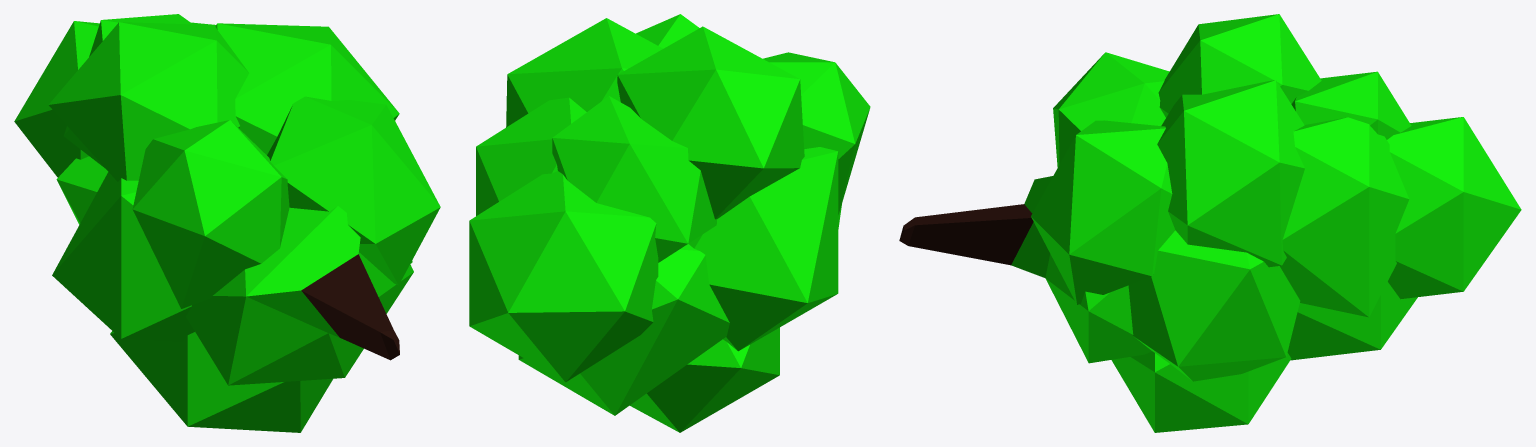
The model's file is BigGreenGrape.fbx.
3 renders of one model, left to right at view 1: azimuth 30°, elevation 25°; view 2: azimuth 150°, elevation 25°; view 3: azimuth 270°, elevation 25°, orthographic. The views are drawn at different scales.
Parts seen in each view (by area): view 1: BigGreenGrape; view 2: BigGreenGrape; view 3: BigGreenGrape.
Boxes of the visible parts, x1,y1,x2,y2 form: BigGreenGrape: (14, 14, 440, 432); BigGreenGrape: (469, 14, 870, 432); BigGreenGrape: (899, 14, 1521, 432).
Size of the model in its own units: 3.3 by 3.86 by 5.94.
